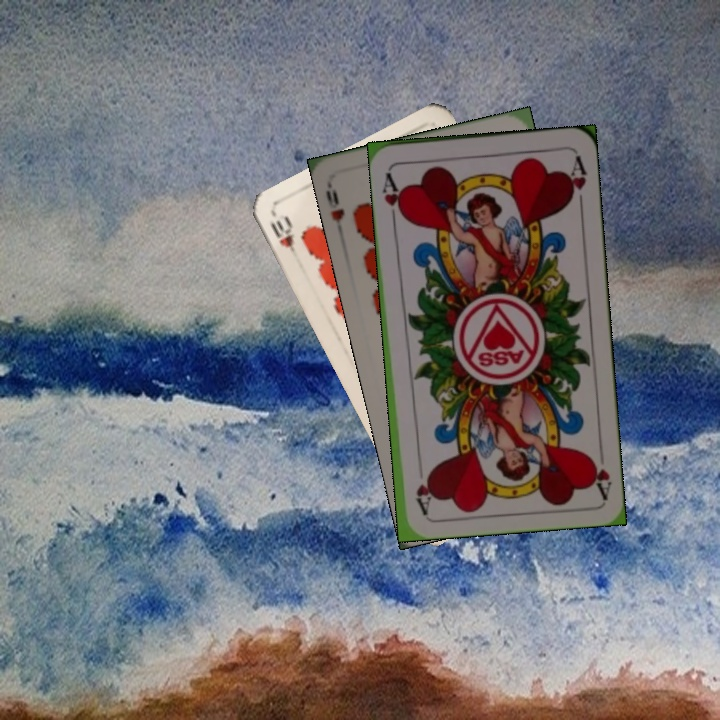H10: (266, 212, 304, 265)
H9: (322, 180, 347, 238)
HA: (585, 440, 614, 500), (378, 166, 407, 225)
